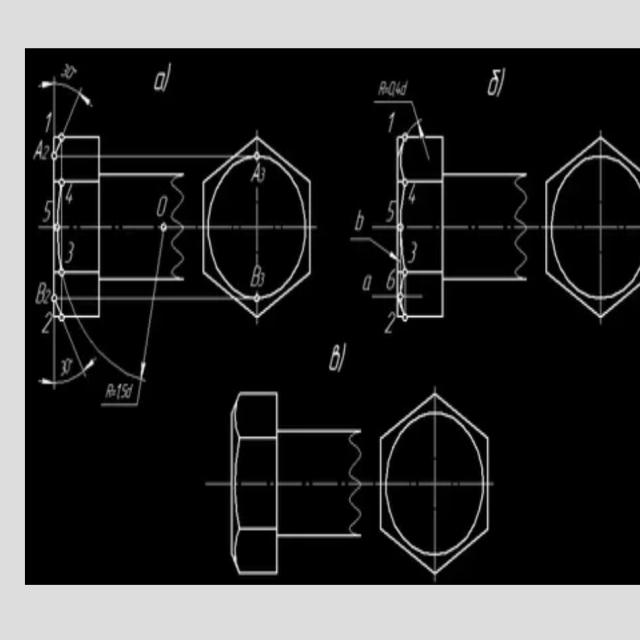marking_line: (37, 320, 95, 390), (40, 78, 92, 132), (137, 302, 156, 379), (350, 237, 396, 261), (417, 125, 430, 160)
numeric: (488, 69, 501, 97), (329, 344, 341, 371), (354, 209, 366, 232), (384, 311, 396, 334), (407, 241, 418, 265), (251, 263, 262, 287), (64, 241, 75, 264), (386, 200, 396, 225), (36, 281, 46, 306), (42, 200, 52, 224), (33, 139, 44, 160), (42, 312, 52, 334), (155, 70, 165, 91), (158, 196, 168, 217), (362, 273, 372, 291), (251, 164, 261, 182), (387, 270, 395, 292), (388, 112, 395, 133), (378, 81, 387, 96), (409, 184, 416, 203), (45, 111, 51, 132), (106, 384, 115, 398), (66, 184, 72, 204), (42, 145, 49, 162), (66, 65, 75, 78), (388, 81, 395, 97), (402, 81, 409, 96), (127, 383, 134, 398), (45, 290, 52, 305), (60, 360, 66, 376), (65, 358, 71, 374), (117, 382, 123, 398), (259, 272, 265, 287), (61, 63, 67, 78), (122, 384, 128, 397), (260, 168, 265, 183), (396, 82, 401, 96)
special_symbol: (495, 66, 508, 96), (338, 342, 348, 373), (163, 62, 172, 91)
